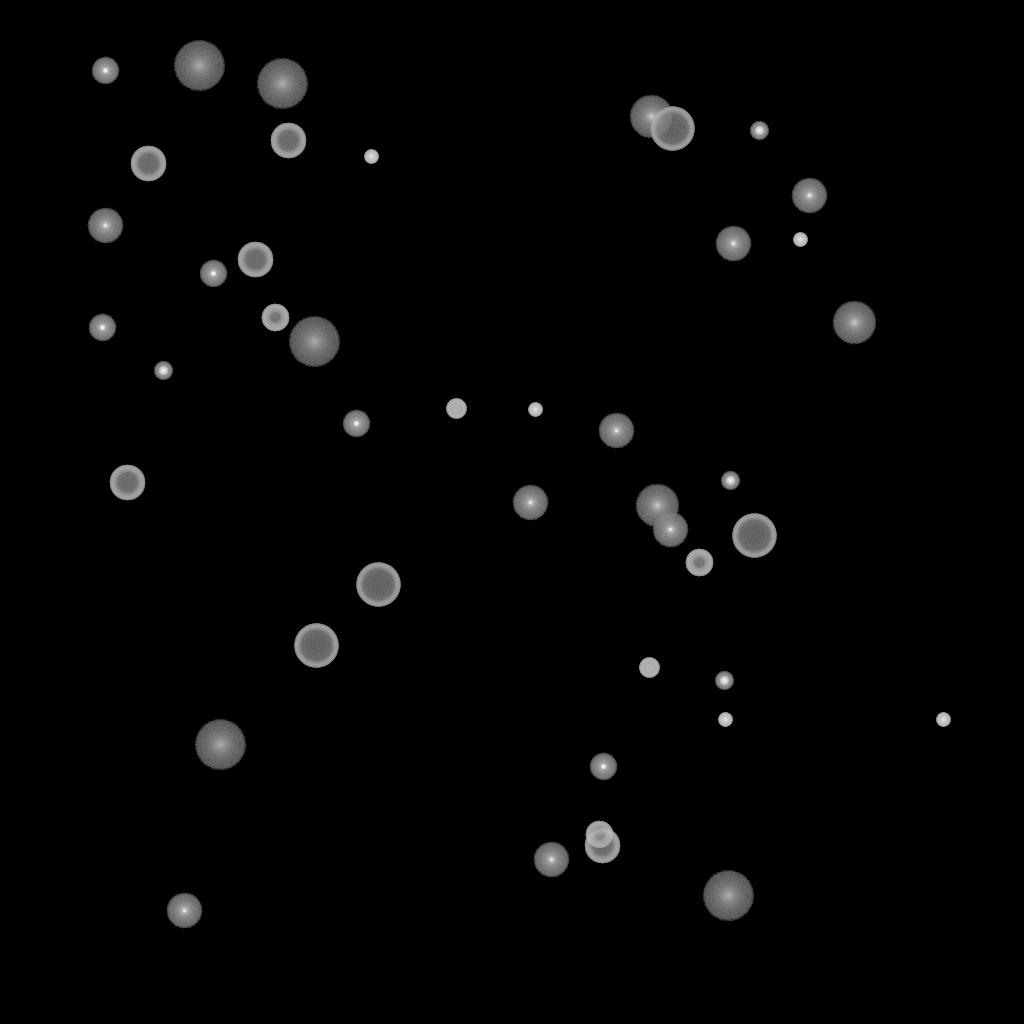depth:-10: (199, 260, 227, 288), (88, 314, 116, 342), (342, 410, 370, 438), (91, 57, 119, 85), (589, 753, 617, 781)
depth:-20: (715, 672, 733, 690), (750, 122, 768, 140), (154, 362, 172, 380), (721, 472, 739, 490)
depth:-30: (364, 150, 378, 164), (718, 713, 732, 727), (528, 403, 542, 417), (793, 233, 807, 247), (936, 713, 950, 727)
depth:-40: (446, 399, 466, 419), (639, 658, 659, 678)
depth:-50: (261, 304, 289, 332), (685, 549, 713, 577), (585, 821, 613, 849)
depth:-60: (109, 465, 145, 501), (237, 242, 273, 278), (584, 828, 620, 864), (270, 123, 306, 159), (130, 146, 166, 182)
depth:-70: (650, 107, 694, 151), (356, 563, 400, 607), (294, 624, 338, 668), (732, 514, 776, 558)
depth:0: (512, 485, 548, 521), (87, 208, 123, 244), (715, 226, 751, 262), (652, 512, 688, 548), (598, 413, 634, 449), (533, 842, 569, 878), (166, 893, 202, 929), (791, 178, 827, 214)
depth:10: (629, 95, 673, 139), (635, 484, 679, 528), (832, 301, 876, 345)
depth:20: (288, 317, 340, 367), (256, 59, 308, 109), (173, 41, 225, 91), (702, 871, 754, 921), (194, 720, 246, 770)
